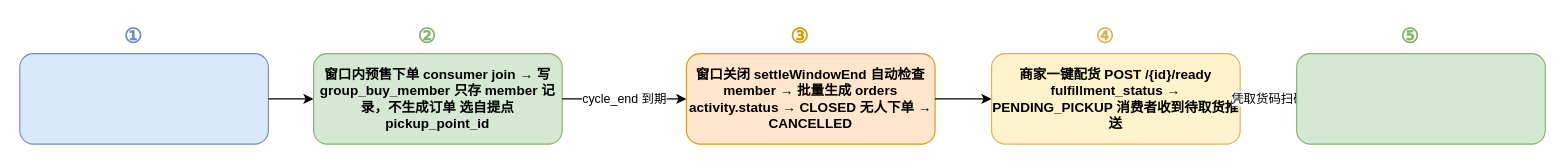
The diagram is 1565 pixels wide and 164 high, and some of its shapes have lost their labels. The box of each missing label's shape, as (x1, y1, x2, y2) in pixels:
商家创建预售活动 设置窗口 cycle_start ~ cycle_end + 自提点 + SKU + 目标销量: (19, 53, 268, 144)
自提点核销员扫码 fulfillment_status → COMPLETED activity.status → COMPLETED: (1296, 53, 1545, 144)
